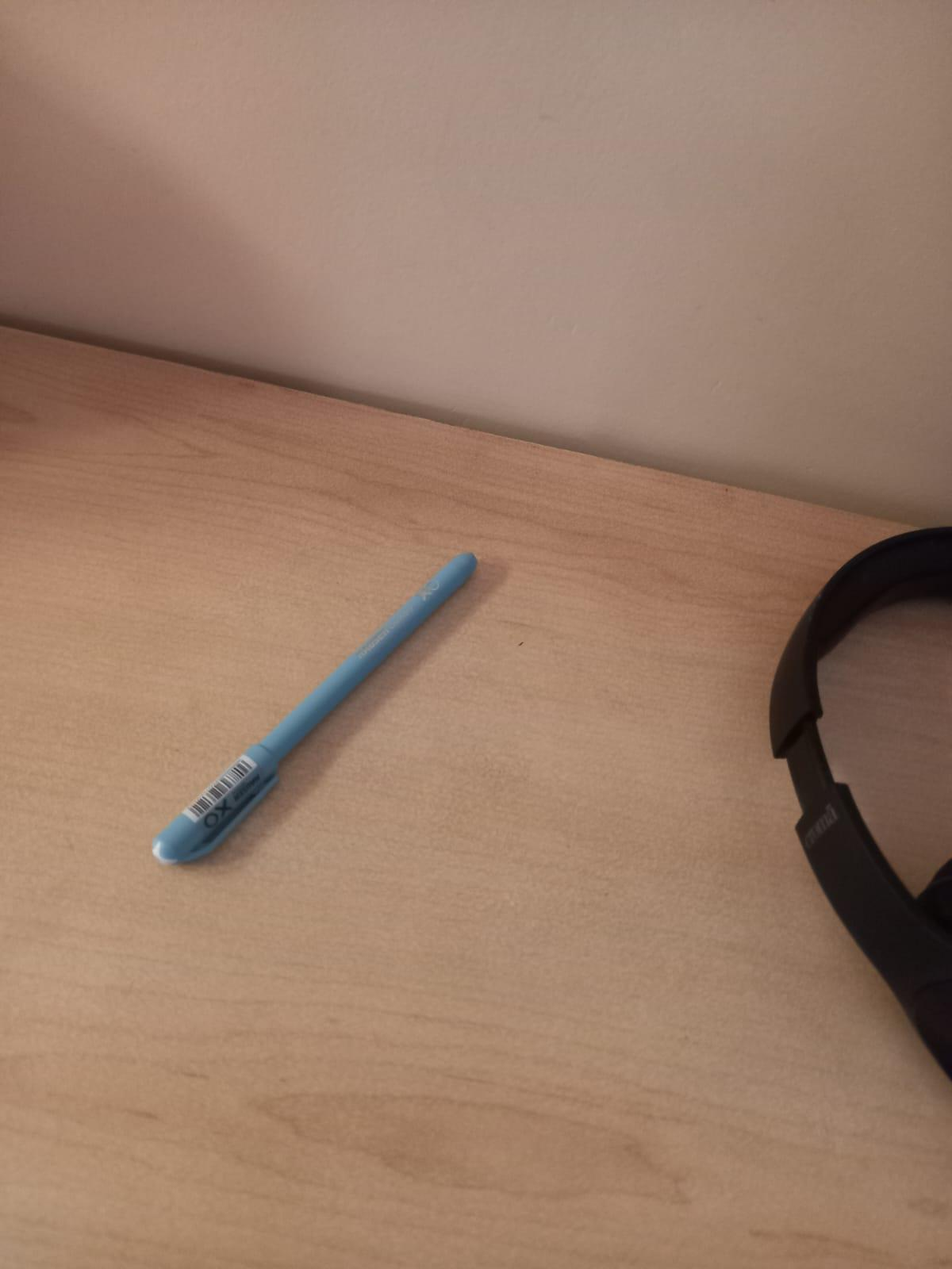headset: (743, 499, 952, 1104)
pen: (143, 543, 504, 854)
